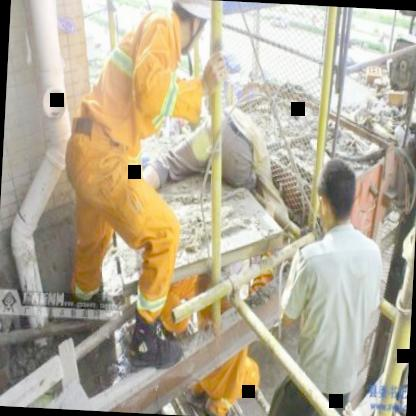helmet: (162, 0, 209, 53)
